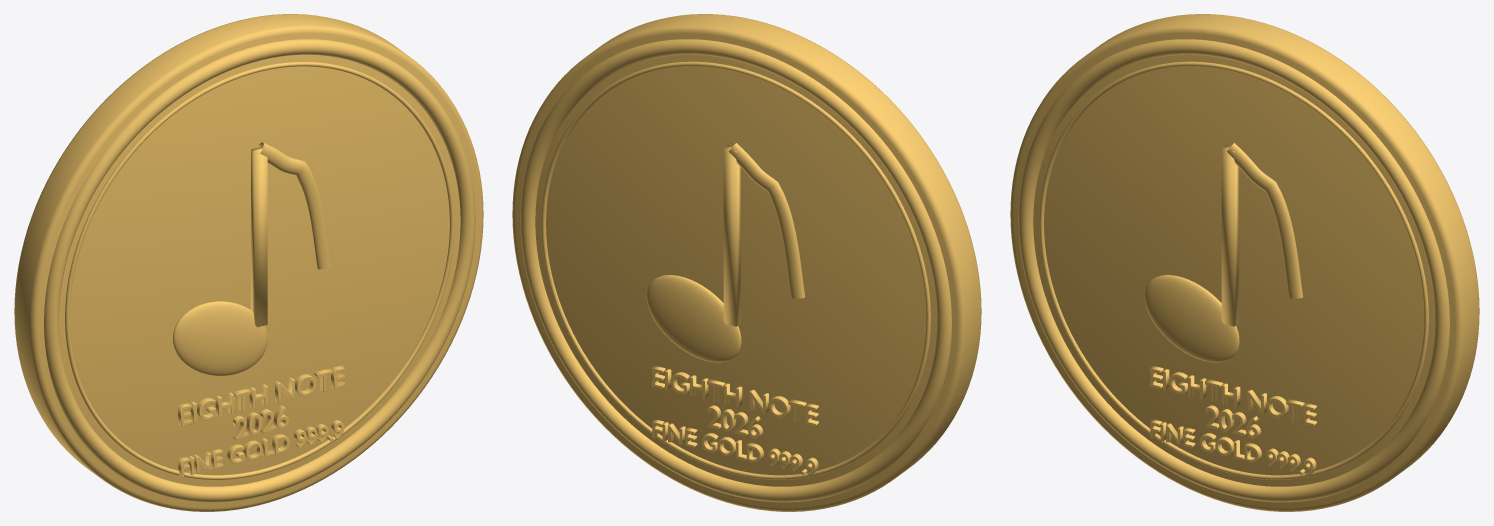
The model's file is GoldCoin.glb.
3 renders of one model, left to right at view 1: azimuth 30°, elevation 25°; view 2: azimuth 150°, elevation 25°; view 3: azimuth 330°, elevation 25°, orthographic.
Visible parts, largest first — view 1: Coin_Body, Rim_Front, Note_Front, RimInner_Front, TxtEighth_F, TxtFine_F, Txt2026_F; view 2: Coin_Body, Rim_Back, Note_Back, RimInner_Back, TxtEighth_B, TxtFine_B, Txt2026_B; view 3: Coin_Body, Rim_Front, Note_Front, RimInner_Front, TxtEighth_F, TxtFine_F, Txt2026_F.
Boxes of the visible parts, x1=… form: Coin_Body: x1=14, y1=14, x2=483, y2=511; Rim_Front: x1=44, y1=39, x2=475, y2=502; Note_Front: x1=173, y1=142, x2=331, y2=375; RimInner_Front: x1=65, y1=61, x2=454, y2=479; TxtEighth_F: x1=178, y1=365, x2=344, y2=426; TxtFine_F: x1=178, y1=420, x2=344, y2=477; Txt2026_F: x1=232, y1=405, x2=288, y2=439; Coin_Body: x1=512, y1=14, x2=981, y2=511; Rim_Back: x1=520, y1=39, x2=951, y2=502; Note_Back: x1=646, y1=143, x2=805, y2=362; RimInner_Back: x1=541, y1=61, x2=930, y2=479; TxtEighth_B: x1=652, y1=366, x2=818, y2=426; TxtFine_B: x1=652, y1=419, x2=818, y2=476; Txt2026_B: x1=707, y1=405, x2=763, y2=438; Coin_Body: x1=1010, y1=14, x2=1479, y2=511; Rim_Front: x1=1018, y1=39, x2=1449, y2=502; Note_Front: x1=1144, y1=143, x2=1303, y2=362; RimInner_Front: x1=1039, y1=61, x2=1428, y2=479; TxtEighth_F: x1=1150, y1=366, x2=1316, y2=426; TxtFine_F: x1=1150, y1=419, x2=1316, y2=476; Txt2026_F: x1=1205, y1=405, x2=1261, y2=438.
Bounding box in the file's own units: 1 × 1 × 0.1248.
